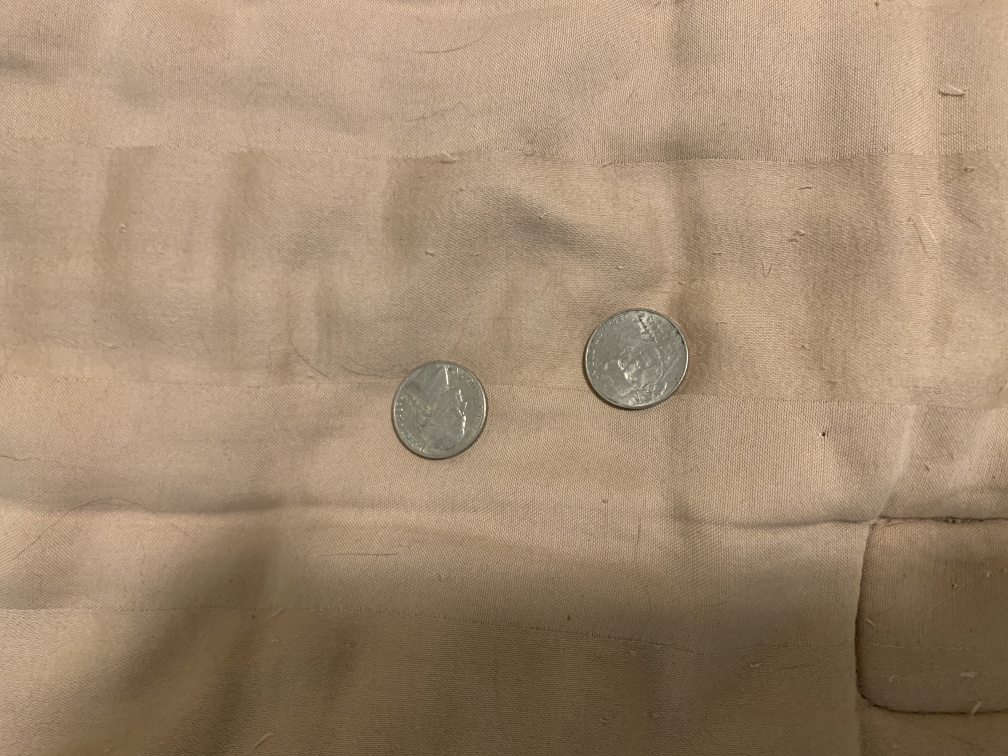nickel: (580, 307, 690, 415), (390, 357, 493, 468)
